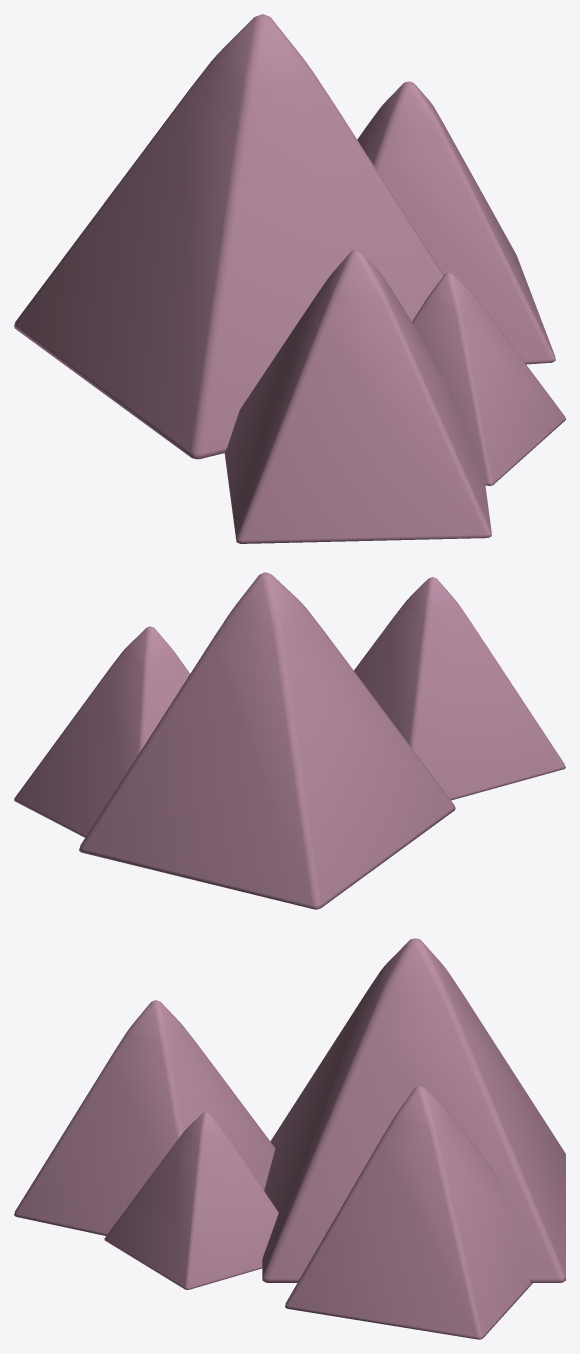
File: bush-70_col.fbx
3 renders of one model, top to bottom at view 1: azimuth 30°, elevation 25°; view 2: azimuth 150°, elevation 25°; view 3: azimuth 270°, elevation 25°, orthographic. The views are drawn at different scales.
Visible parts, largest first — view 1: bush-70.col; view 2: bush-70.col; view 3: bush-70.col.
Part boxes in pixels (bbox=[...]): bush-70.col: bbox=[14, 14, 565, 543]; bush-70.col: bbox=[14, 572, 565, 909]; bush-70.col: bbox=[14, 938, 565, 1339].
Bounding box in the file's own units: 0.2099 × 0.138 × 0.2415.
1 material, 1 textured.
